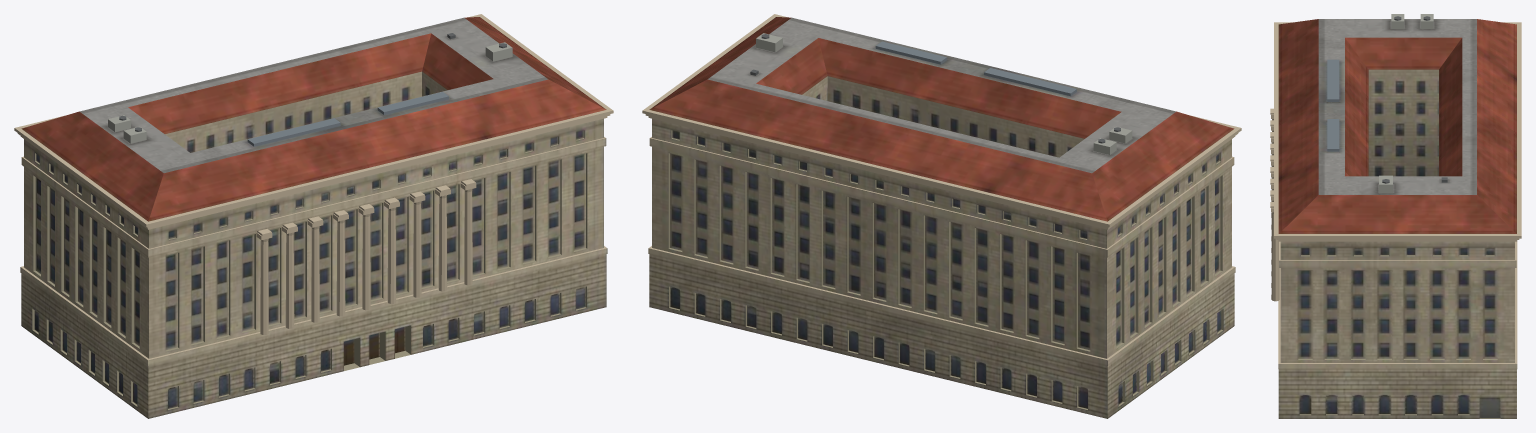
File: dc_fedtri_c.glb
3 views of the same model, side by side, from view 1: azimuth 30°, elevation 25°; view 2: azimuth 150°, elevation 25°; view 3: azimuth 270°, elevation 25° (orthographic). The views are drawn at different scales.
Parts seen in each view (by area): view 1: dc_fedtri_c; view 2: dc_fedtri_c; view 3: dc_fedtri_c.
Boxes of the visible parts, x1,y1,x2,y2 form: dc_fedtri_c: (14,14,613,418); dc_fedtri_c: (642,14,1241,418); dc_fedtri_c: (1270,14,1521,418).
Bounding box in the file's own units: 86.2 × 40.85 × 42.82.
Materials: 1 (1 with a texture image).
